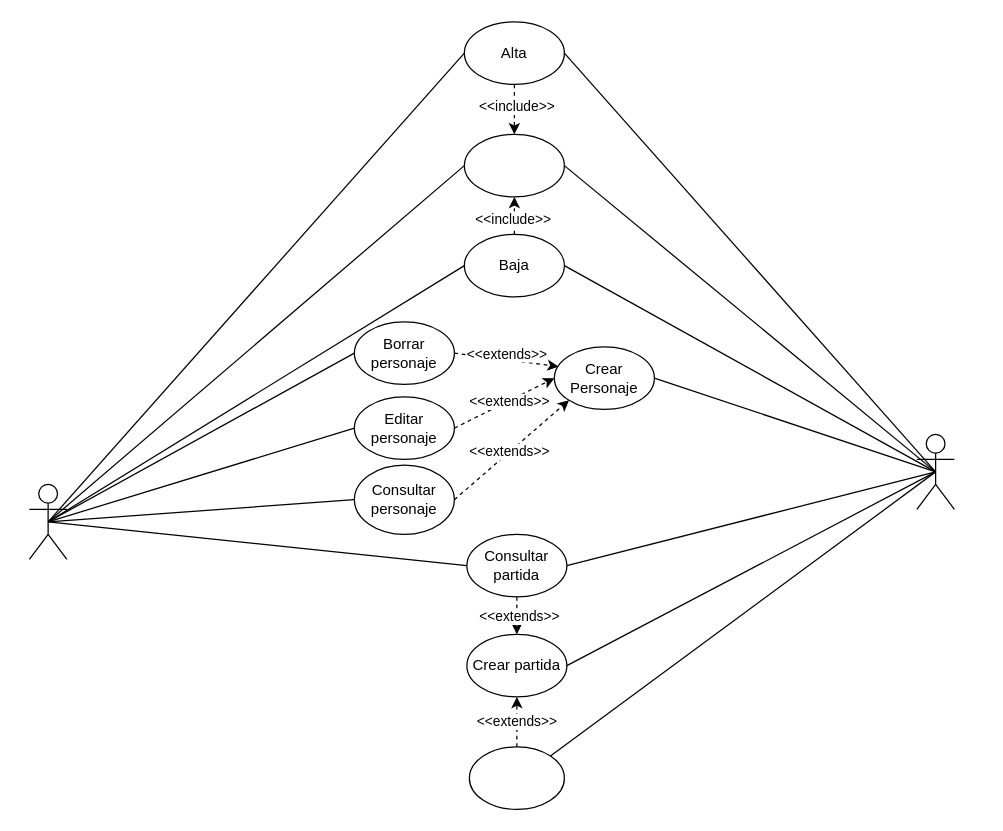
Some shapes in this 1003 by 831 pixel diagram are drawn without their labels. Each missing label, with the box of its shape:
Editar partida: (468, 746, 564, 809)
Game Master: (916, 433, 954, 509)
Jugador: (28, 483, 67, 559)
Login: (463, 133, 564, 197)
